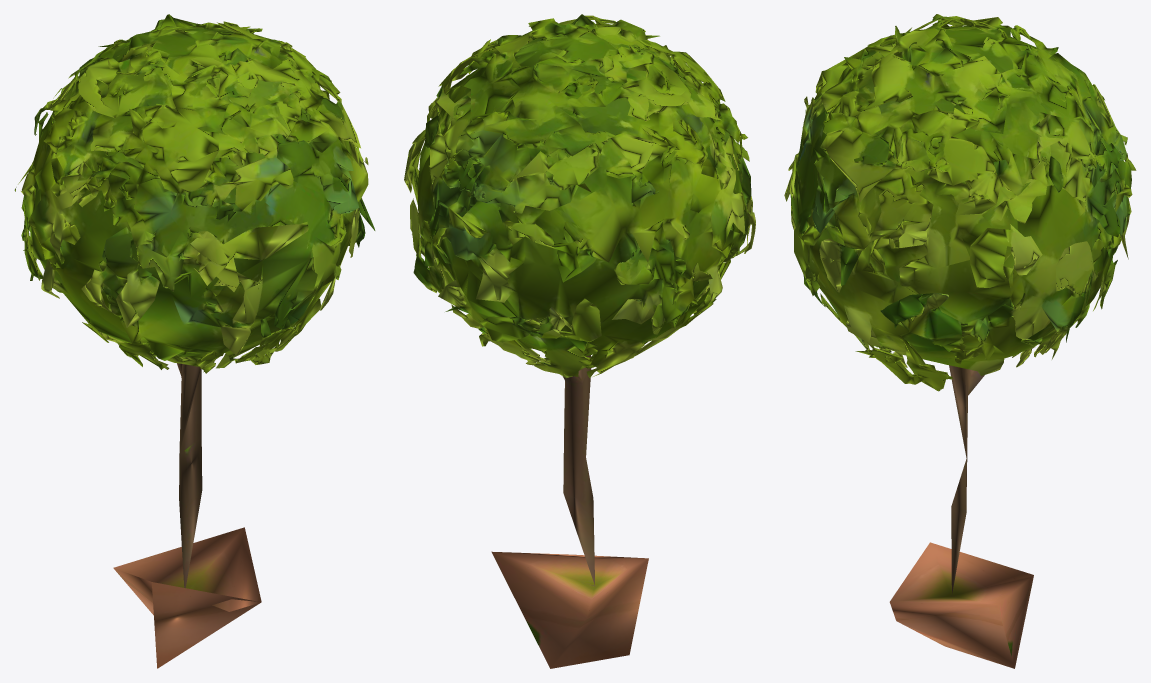
The model's file is topiary_sphere.glb.
3 views of the same model, side by side, from view 1: azimuth 30°, elevation 25°; view 2: azimuth 150°, elevation 25°; view 3: azimuth 270°, elevation 25° (orthographic). The views are drawn at different scales.
Parts seen in each view (by area): view 1: tripo_node_a813a2f2-ea42-449a-be64-5ea96b7e5c25; view 2: tripo_node_a813a2f2-ea42-449a-be64-5ea96b7e5c25; view 3: tripo_node_a813a2f2-ea42-449a-be64-5ea96b7e5c25.
Boxes of the visible parts, <box> form: tripo_node_a813a2f2-ea42-449a-be64-5ea96b7e5c25: <box>14,14,375,668</box>; tripo_node_a813a2f2-ea42-449a-be64-5ea96b7e5c25: <box>404,14,755,668</box>; tripo_node_a813a2f2-ea42-449a-be64-5ea96b7e5c25: <box>784,14,1136,668</box>.
Bounding box in the file's own units: 0.5137 × 0.9908 × 0.4973.
Materials: 1 (1 with a texture image).
